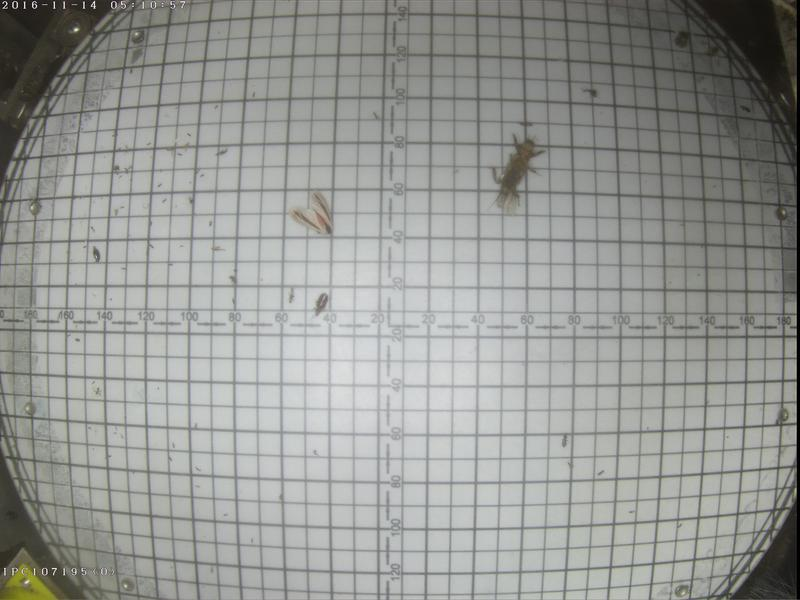Gryllotalpa orientalis: (490, 132, 543, 212)
